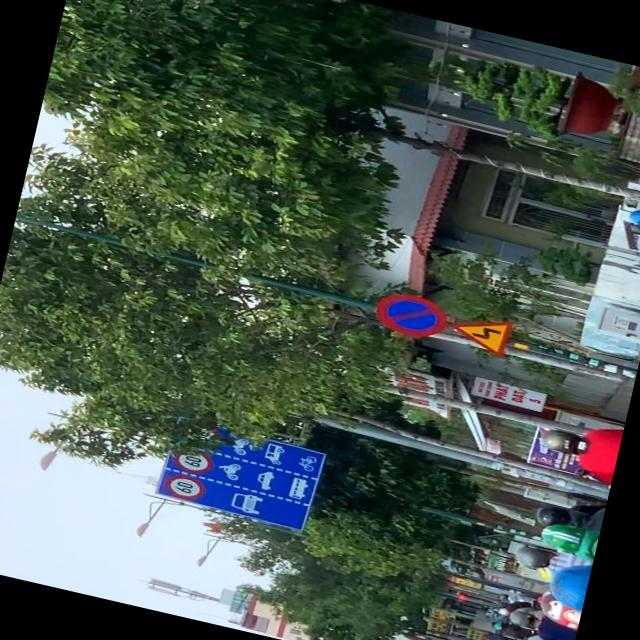P-131a: (374, 288, 449, 344)
W-202a: (448, 308, 513, 358)
